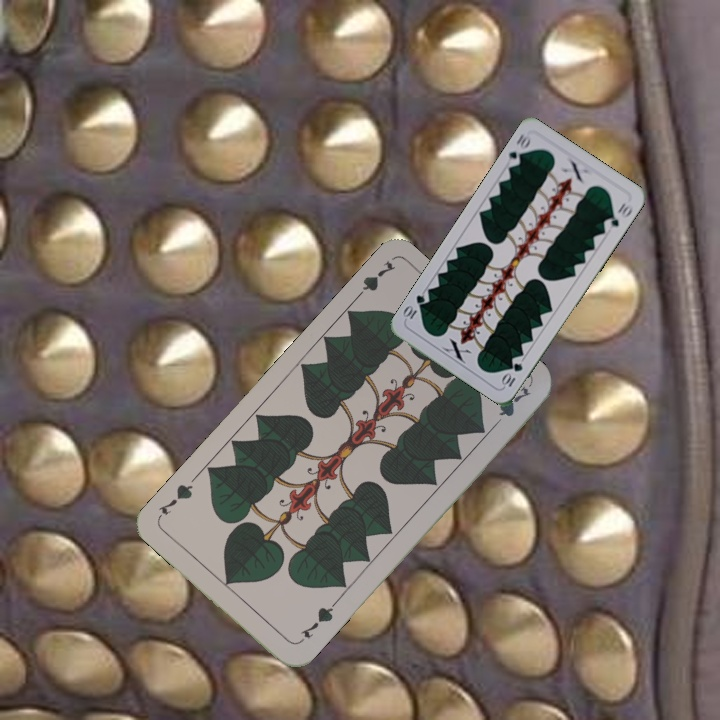G10: (504, 130, 534, 169), (498, 359, 525, 390)
G7: (349, 256, 398, 305), (294, 599, 338, 647)
